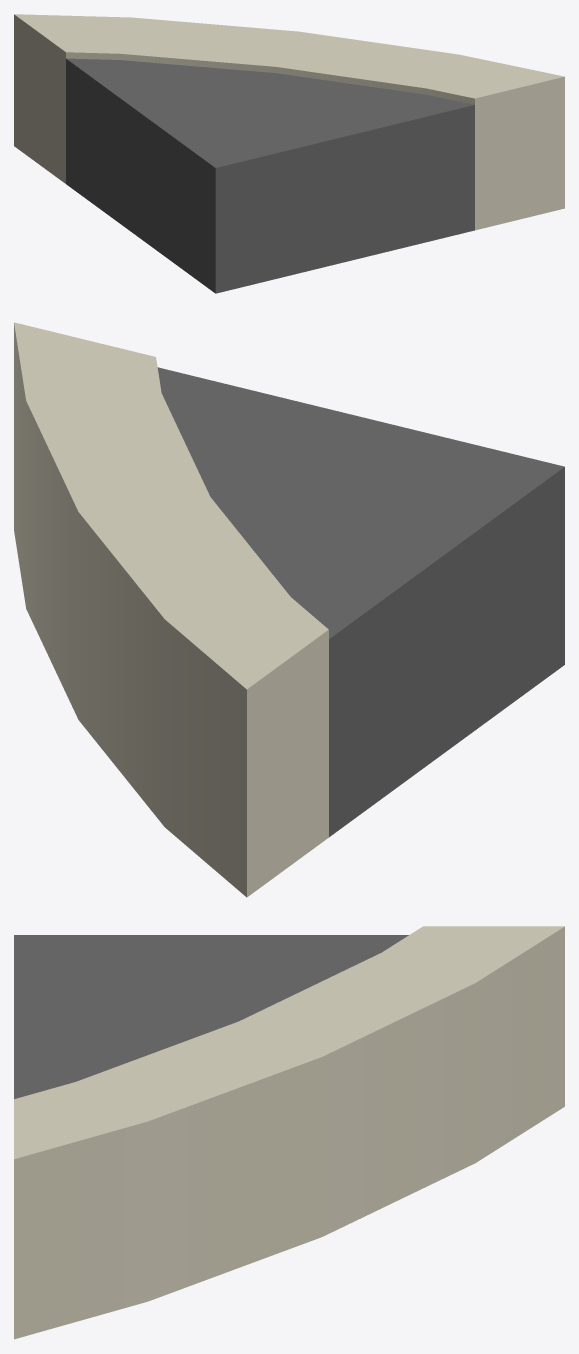
Rendered from tile235.fbx.
3 views of the same model, one above another, from view 1: azimuth 30°, elevation 25°; view 2: azimuth 150°, elevation 25°; view 3: azimuth 270°, elevation 25° (orthographic). The views are drawn at different scales.
Parts seen in each view (by area): view 1: tile235; view 2: tile235; view 3: tile235.
Boxes of the visible parts, x1=… form: tile235: x1=14, y1=14, x2=564, y2=293; tile235: x1=14, y1=322, x2=564, y2=897; tile235: x1=14, y1=926, x2=564, y2=1339.
Size of the model in its own units: 5.82 by 2.1 by 5.82.
